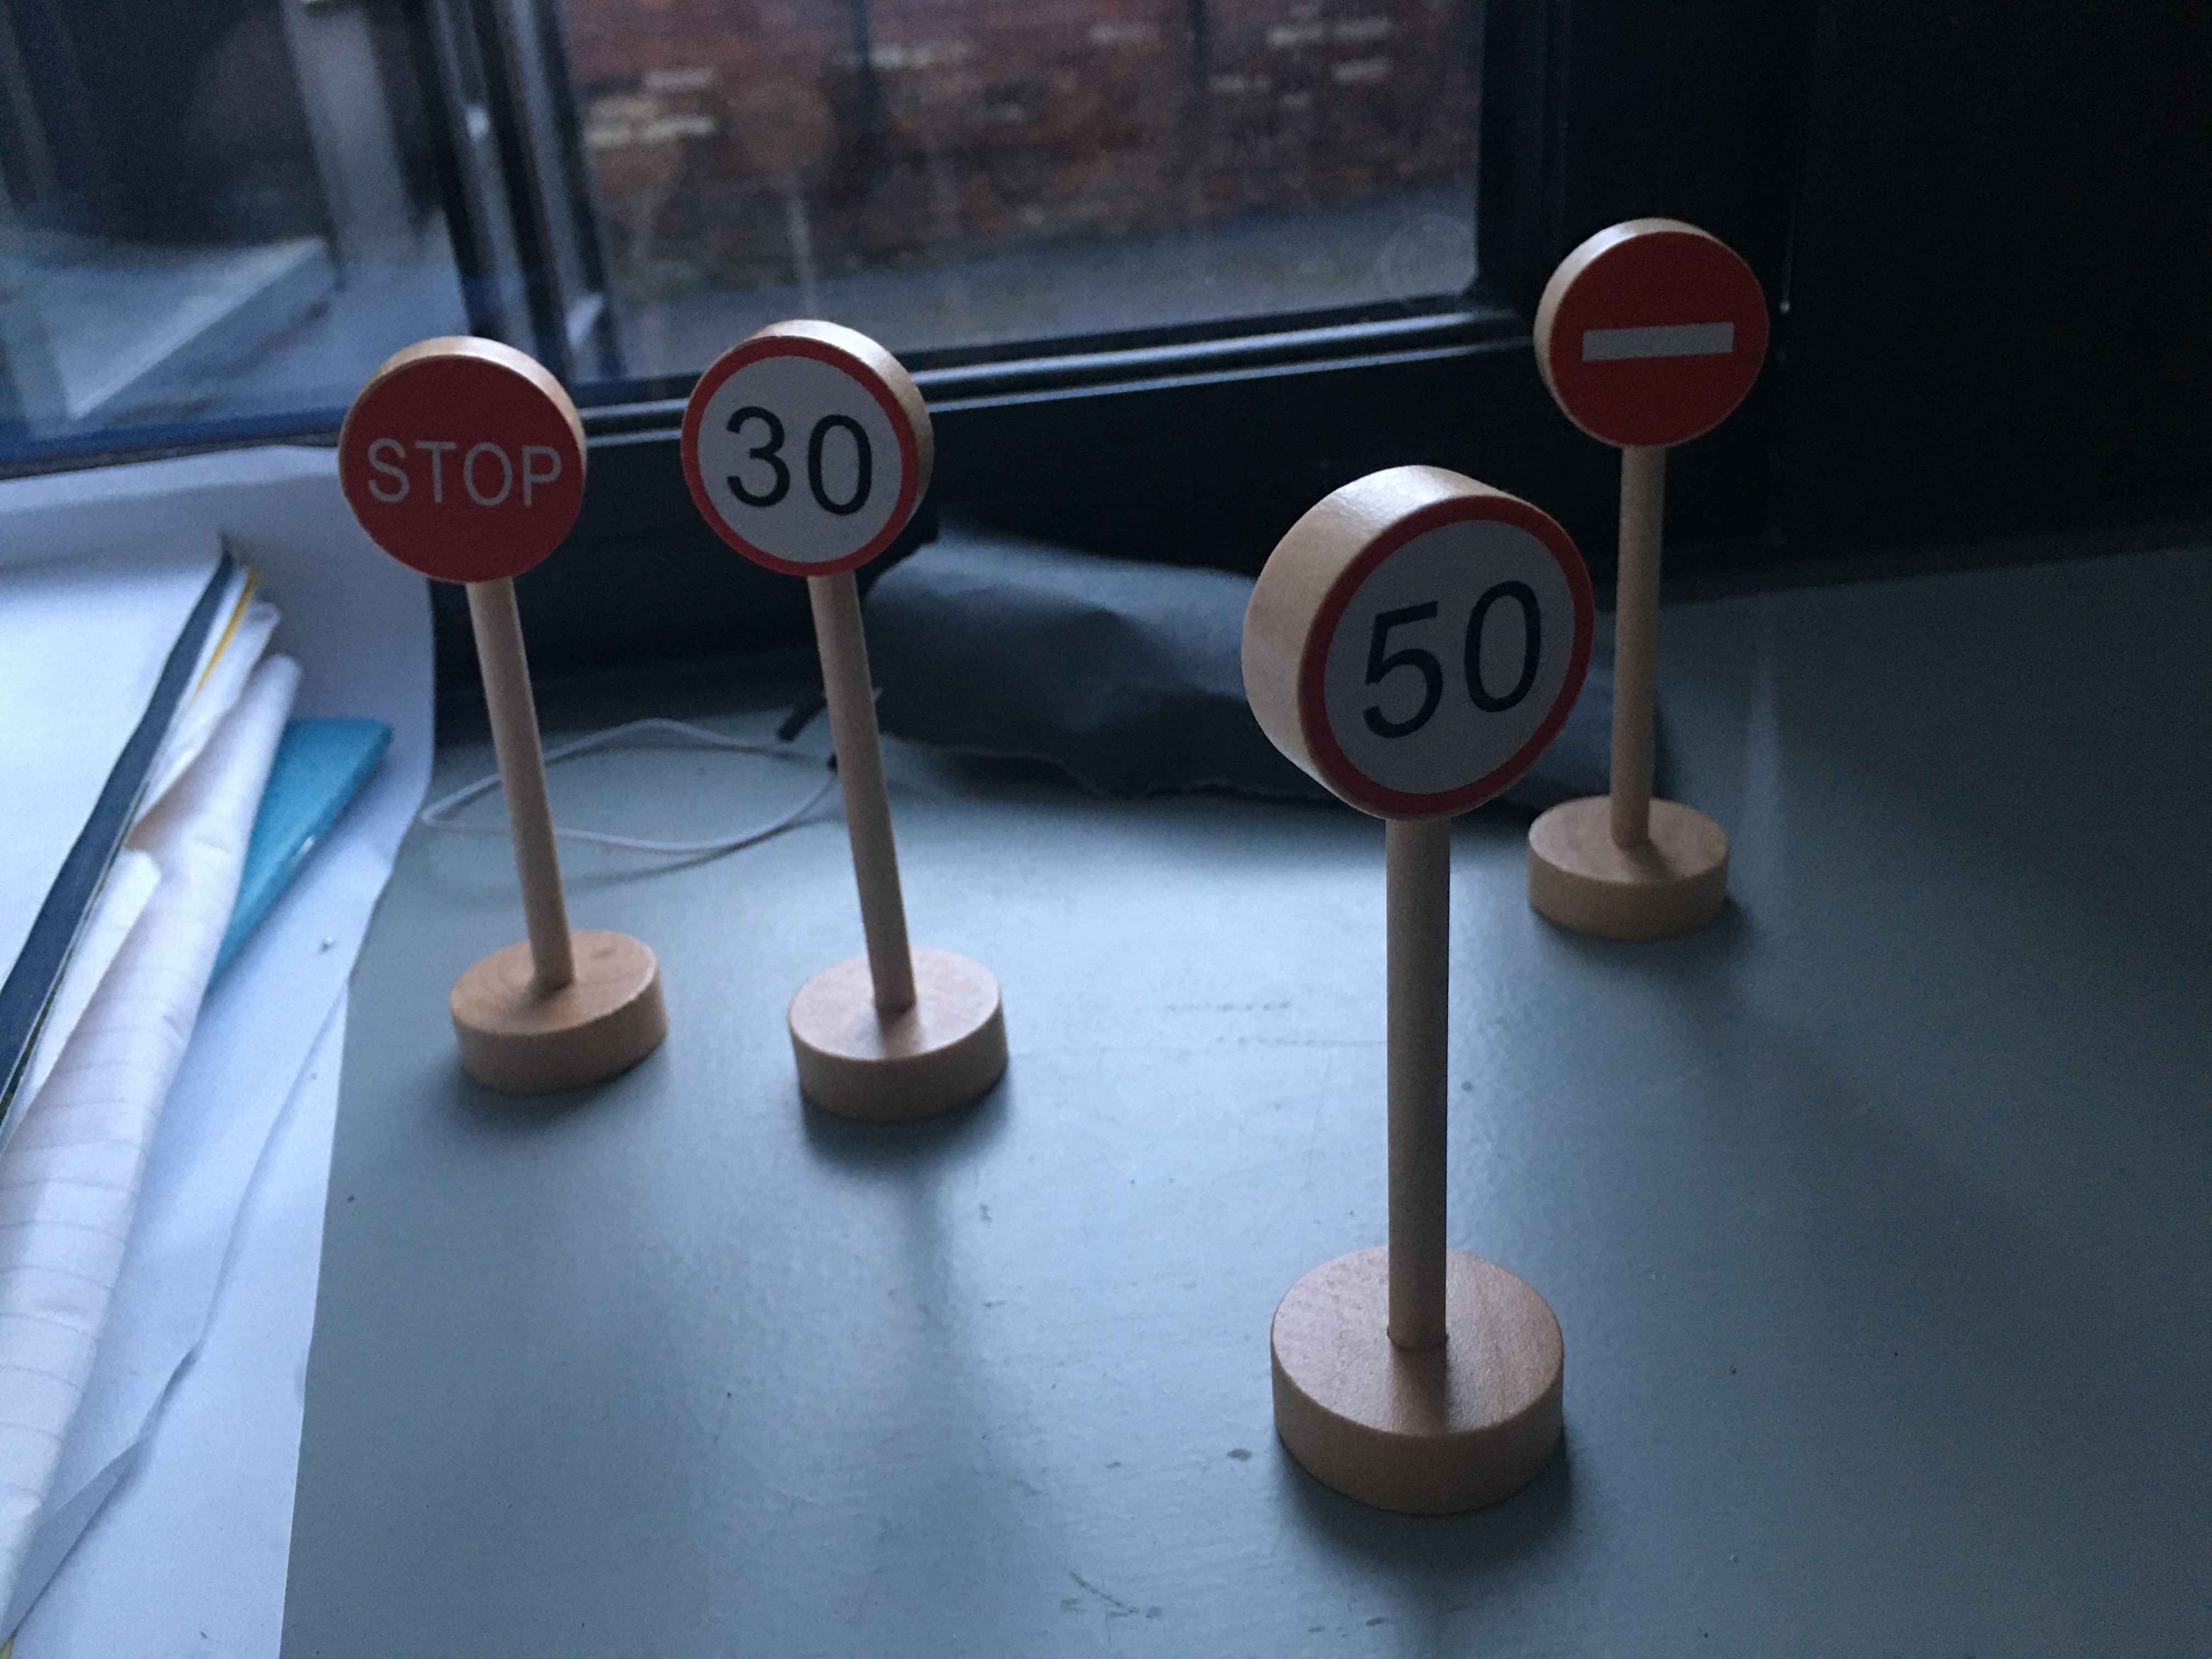Traffic_Sign_30: (679, 340, 921, 575)
Traffic_Sign_50: (1299, 495, 1594, 823)
Traffic_Sign_No_Entry: (1548, 240, 1764, 437)
Traffic_Sign_Stop: (340, 359, 580, 580)
